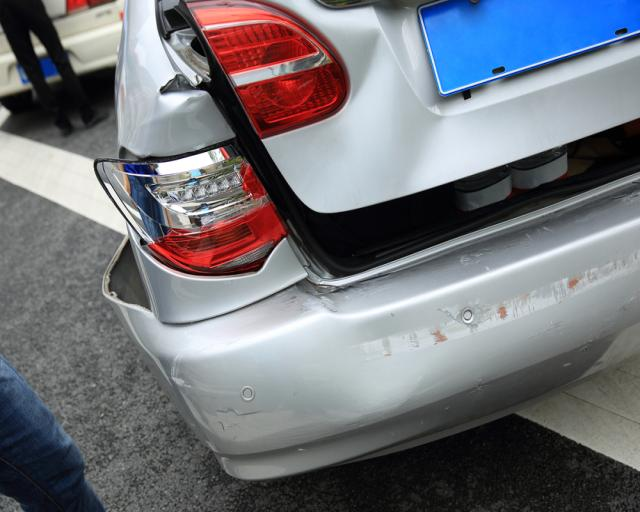dent: (328, 28, 391, 116), (160, 77, 204, 103)
lamp broken: (97, 150, 285, 277)
scratch: (357, 243, 640, 364), (170, 349, 307, 483)
